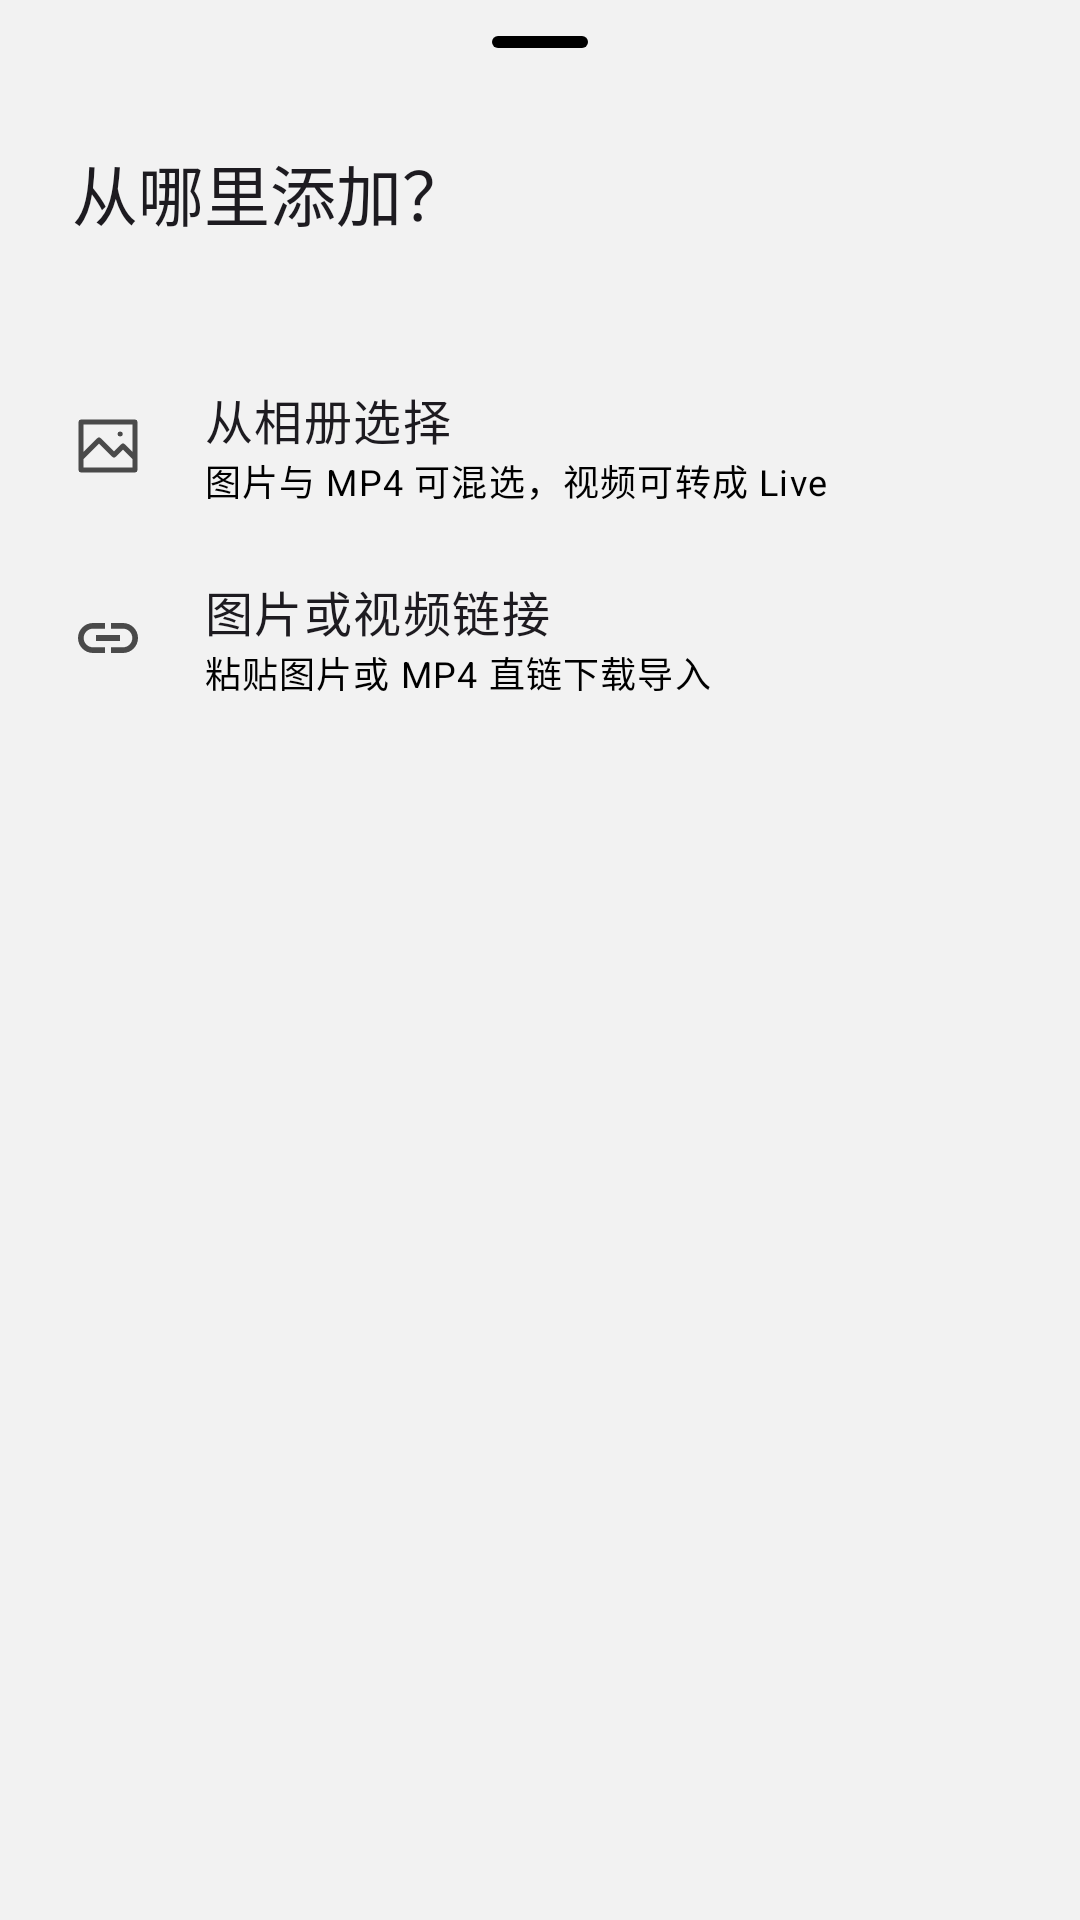

Locate icon controls on the screen. Image size 1080×1920, boxes as box=[x1, y1, x2, y2].
link: box=[78, 623, 138, 653]
photo library: box=[78, 419, 138, 473]
